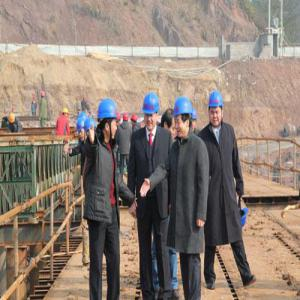blue: (98, 99, 119, 142), (174, 96, 192, 140), (143, 91, 160, 131), (209, 91, 224, 127), (85, 117, 96, 138), (77, 118, 86, 143), (192, 109, 199, 133)
none: (163, 109, 176, 139)
red: (123, 113, 130, 124), (132, 115, 139, 126), (118, 113, 123, 126)
yellow: (62, 108, 70, 119)
